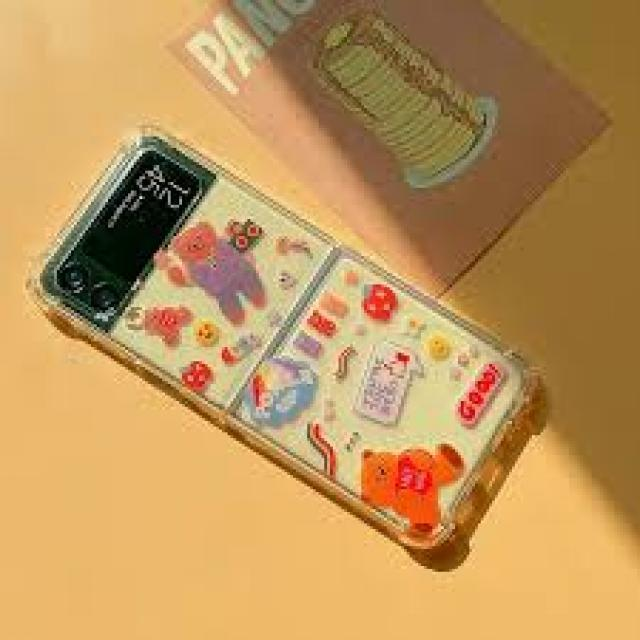phone: (25, 127, 545, 556)
